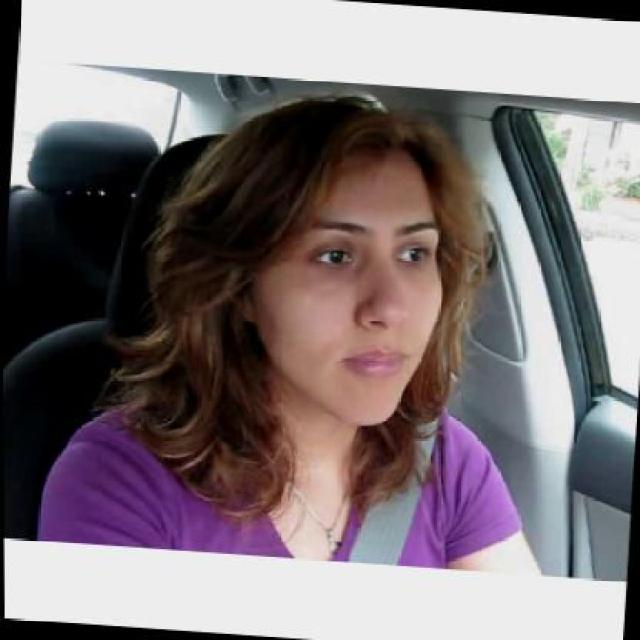attentif: (226, 88, 457, 429)
